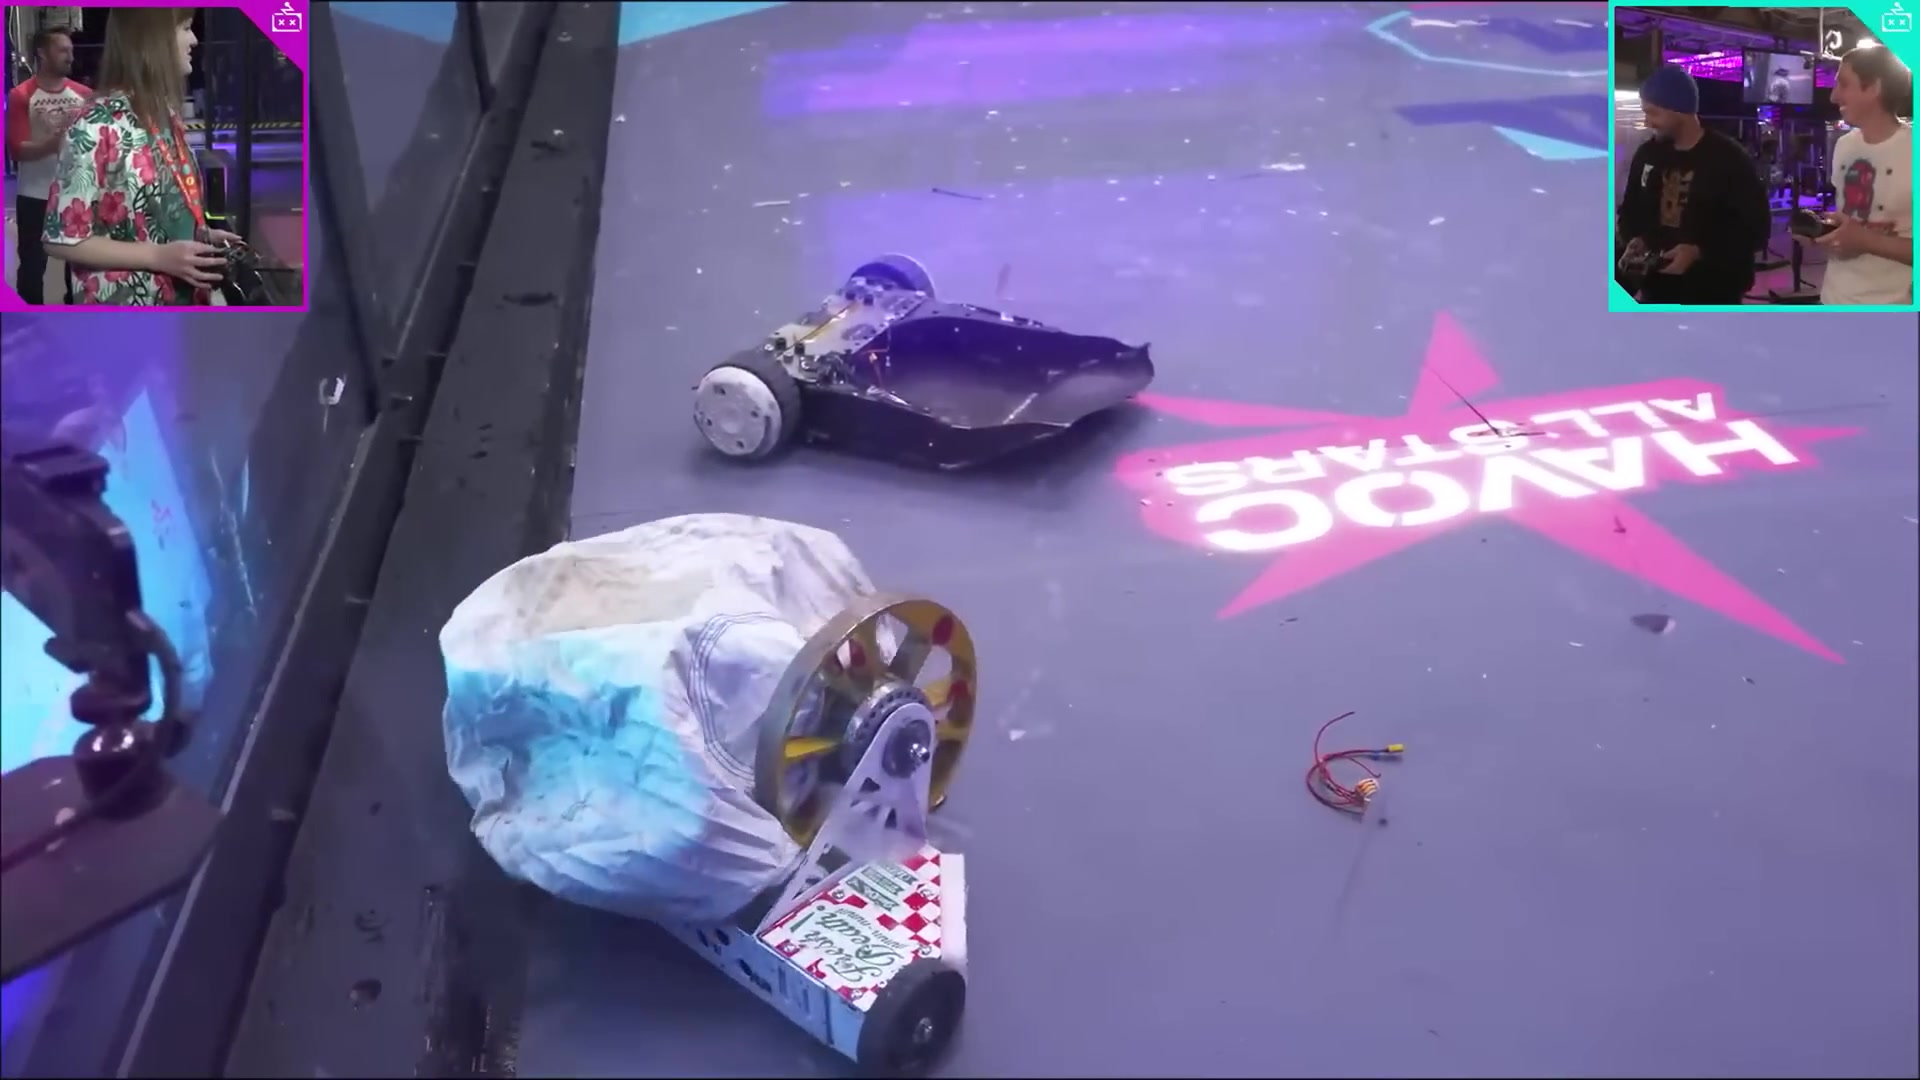combatbot: (436, 514, 985, 1069), (691, 253, 1143, 491)
debris: (1305, 733, 1391, 822)
